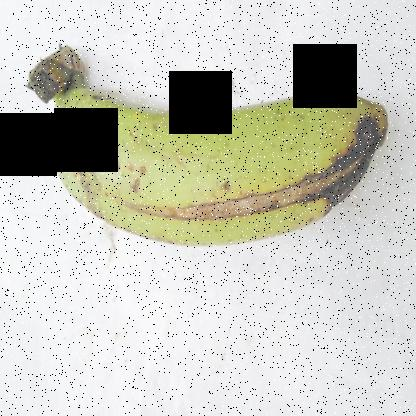rotten: (298, 105, 385, 235), (128, 169, 319, 226)
